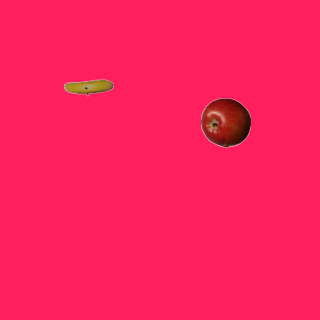Apple Braeburn: (200, 97, 250, 147)
Banana: (63, 62, 113, 112)
